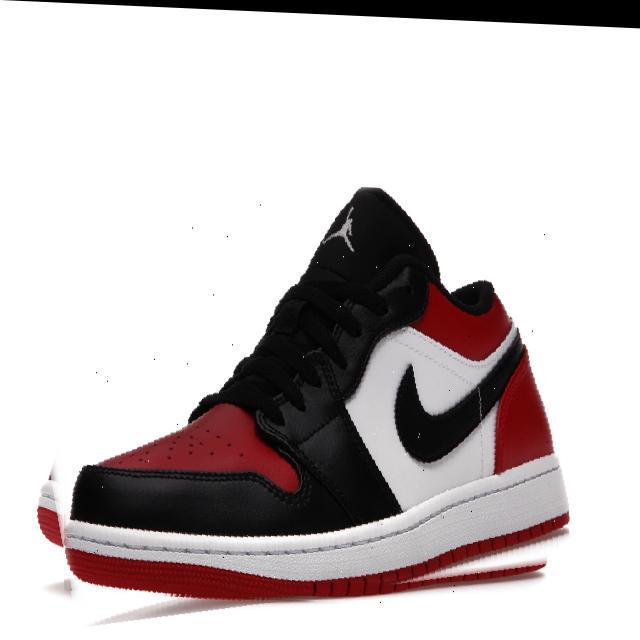J1_InsoleChar: (35, 184, 572, 603)
J1_StitchPattern: (36, 455, 570, 599), (216, 198, 430, 519), (196, 200, 380, 419), (389, 323, 526, 466), (250, 280, 369, 411), (82, 461, 298, 505), (318, 201, 361, 255)
